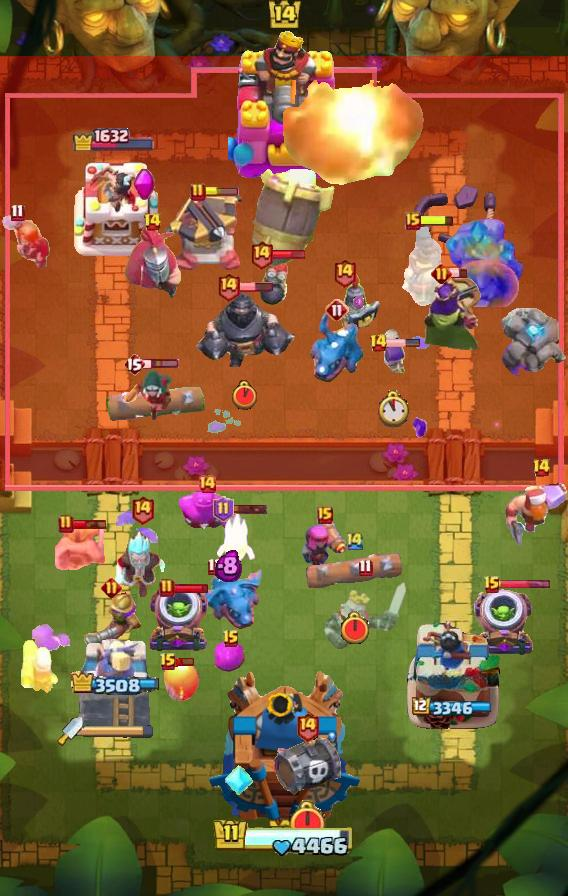bandit: (123, 366, 175, 424)
bar: (499, 579, 551, 590), (419, 214, 455, 227), (231, 503, 268, 515), (143, 358, 180, 370), (72, 518, 108, 530), (238, 281, 274, 293), (173, 583, 210, 594), (271, 249, 306, 260), (385, 338, 421, 348), (203, 187, 239, 197), (175, 656, 195, 667), (449, 268, 468, 279)
bar-level: (295, 711, 320, 742), (130, 494, 155, 525), (216, 271, 241, 302), (332, 257, 357, 288), (249, 239, 274, 270), (325, 298, 349, 322), (213, 496, 234, 522), (123, 352, 145, 376), (101, 577, 122, 598), (431, 263, 452, 284), (345, 530, 365, 551), (197, 474, 217, 494), (532, 458, 551, 478), (369, 333, 388, 353), (143, 212, 162, 232), (159, 652, 177, 672), (222, 629, 240, 649), (483, 575, 501, 595), (159, 578, 175, 598), (58, 514, 74, 534), (190, 182, 206, 202), (317, 506, 333, 524), (405, 212, 421, 230), (358, 558, 373, 577), (207, 557, 222, 576), (10, 203, 25, 222)
bomber: (259, 256, 291, 306)
clock: (287, 800, 328, 845), (375, 390, 411, 428), (339, 611, 371, 646), (232, 380, 257, 410)
dagger-duchess-tower: (77, 637, 151, 731)
dagger-duchess-tower-bar: (83, 724, 155, 738)
electro-dragon: (189, 566, 267, 630), (308, 310, 366, 384)
elite-barbarian: (55, 521, 107, 571)
elixir: (215, 549, 242, 582), (353, 295, 365, 310)
elixir-golem-mid: (176, 489, 238, 535)
elixir-golem-small: (215, 642, 247, 672)
evolution-symbol: (132, 168, 156, 203)
firecracker: (300, 517, 350, 571), (19, 637, 61, 695)
golemite: (498, 308, 568, 376)
guard: (337, 271, 381, 353)
ice-spirit: (215, 511, 255, 569)
ice-spirit-evolution-symbol: (225, 763, 253, 797)
ice-wizard: (111, 529, 173, 601)
king-tower: (207, 669, 362, 826), (228, 29, 340, 181)
king-tower-bar: (212, 817, 356, 859)
lumberjack: (504, 476, 568, 546)
mortar-evolution: (471, 588, 535, 658), (147, 584, 211, 654)
musketeer: (79, 589, 143, 655)
phoenix-egg: (161, 659, 201, 703)
queen-tower: (404, 617, 502, 731), (70, 154, 158, 256)
ram-rider: (400, 226, 446, 306)
royal-ghost: (321, 581, 409, 661)
skeleton-evolution: (378, 342, 408, 382)
the-log: (304, 551, 406, 599), (101, 385, 207, 423)
tower-bar: (69, 671, 159, 696), (72, 125, 156, 151), (412, 697, 494, 718)
valkyrie: (0, 211, 54, 271)
